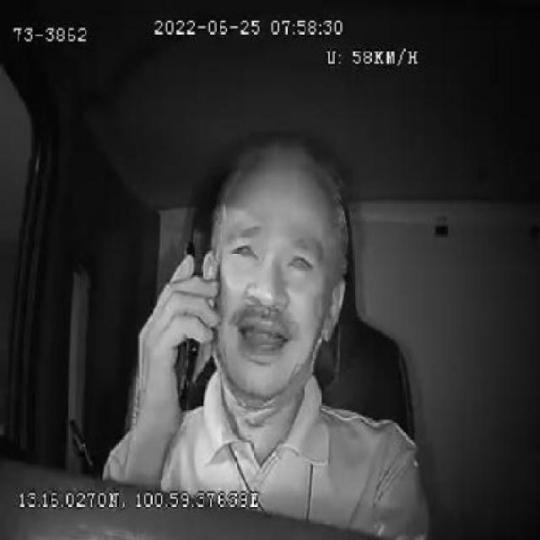phone: (169, 234, 204, 414)
